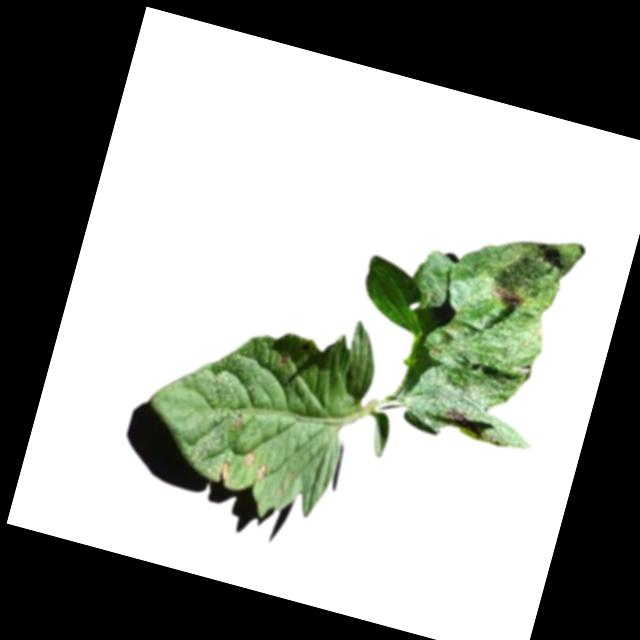Early_blight: (488, 279, 535, 311), (214, 456, 234, 483), (445, 403, 471, 423), (254, 460, 272, 483), (240, 448, 258, 468), (231, 411, 245, 429)
